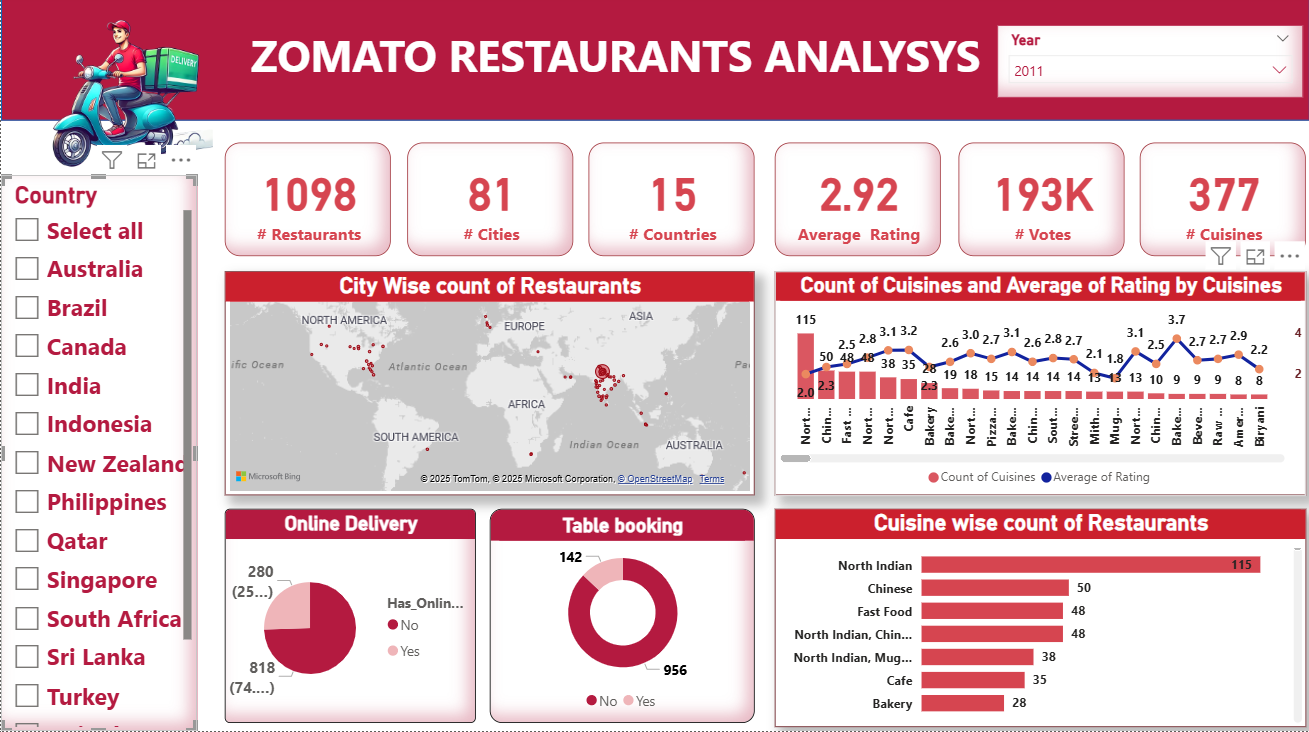

The dashboard page shown, as its layout file describes it:
{"tool":"powerbi","page":{"name":"Dashboard","canvas":[1280,720],"ordinal":0},"visuals":[{"type":"shape","box":[0,0,1280.4,122.9],"z":0},{"type":"image","box":[0,0,240.2,183.5],"z":1000},{"type":"textbox","box":[220,24.3,762.1,76],"z":2000},{"type":"card","fields":{"Values":["Count(restaurants.RestaurantID)"]},"box":[219.4,143.7,162.6,111.6],"z":3000},{"type":"card","fields":{"Values":["Count(restaurants.City)"]},"box":[397.2,143.7,162.6,111.6],"z":4000},{"type":"card","fields":{"Values":["Count(restaurants.CountryCode)"]},"box":[574.9,143.7,162.6,111.6],"z":5000},{"type":"card","fields":{"Values":["Avg(restaurants.Rating)"]},"box":[756.5,143.7,162.6,111.6],"z":6000},{"type":"card","fields":{"Values":["Sum(restaurants.Votes)"]},"box":[936.2,143.7,162.6,111.6],"z":7000},{"type":"card","fields":{"Values":["Count(restaurants.Cuisines)"]},"box":[1114,143.7,162.6,111.6],"z":8000},{"type":"slicer","fields":{"Values":["countries.country name"]},"box":[0,176,192,544],"z":9000},{"type":"lineStackedColumnComboChart","fields":{"Y":["CountNonNull(restaurants.Cuisines)"],"Category":["restaurants.Cuisines"],"Y2":["Avg(restaurants.Rating)"]},"box":[756.5,270.5,520.1,219.4],"z":10000},{"type":"map","title":"City Wise count of Restaurants","fields":{"Size":["CountNonNull(restaurants.RestaurantID)"],"Category":["restaurants.City"]},"box":[219.4,270.5,518.2,219.4],"z":11000},{"type":"clusteredBarChart","title":"Cuisine wise count of Restaurants","fields":{"Category":["restaurants.Cuisines"],"Y":["CountNonNull(restaurants.RestaurantID)"]},"box":[756.5,503.1,520.1,213.7],"z":12000},{"type":"pieChart","title":"Online Delivery","fields":{"Category":["restaurants.Has_Online_delivery"],"Y":["CountNonNull(restaurants.RestaurantID)"]},"box":[219.4,503.1,245.9,209.9],"z":13000},{"type":"donutChart","title":"Table booking ","fields":{"Category":["restaurants.Has_Table_booking"],"Y":["CountNonNull(restaurants.RestaurantID)"]},"box":[478.5,503.1,259.1,209.9],"z":14000},{"type":"slicer","fields":{"Values":["restaurants.Datekey_Opening.Variation.Date Hierarchy.Year"]},"box":[974,29.1,299.3,71.2],"z":15000}]}

Visuals, with their boxes in screenshot pixels (x1, y1, x2, y2), scaled from the page's 1280x720 canvas onto the 1309x732 screenshot:
shape: pyautogui.locateOnScreen(0, 0, 1308, 125)
image: pyautogui.locateOnScreen(0, 0, 246, 187)
textbox: pyautogui.locateOnScreen(225, 25, 1004, 102)
card - Count(restaurants.RestaurantID): pyautogui.locateOnScreen(224, 146, 391, 260)
card - Count(restaurants.City): pyautogui.locateOnScreen(406, 146, 572, 260)
card - Count(restaurants.CountryCode): pyautogui.locateOnScreen(588, 146, 754, 260)
card - Avg(restaurants.Rating): pyautogui.locateOnScreen(774, 146, 940, 260)
card - Sum(restaurants.Votes): pyautogui.locateOnScreen(957, 146, 1124, 260)
card - Count(restaurants.Cuisines): pyautogui.locateOnScreen(1139, 146, 1306, 260)
slicer - countries.country name: pyautogui.locateOnScreen(0, 179, 196, 731)
lineStackedColumnComboChart - CountNonNull(restaurants.Cuisines) x restaurants.Cuisines: pyautogui.locateOnScreen(774, 275, 1306, 498)
"City Wise count of Restaurants" map: pyautogui.locateOnScreen(224, 275, 754, 498)
"Cuisine wise count of Restaurants" clusteredBarChart: pyautogui.locateOnScreen(774, 511, 1306, 729)
"Online Delivery" pieChart: pyautogui.locateOnScreen(224, 511, 476, 725)
"Table booking " donutChart: pyautogui.locateOnScreen(489, 511, 754, 725)
slicer - restaurants.Datekey_Opening.Variation.Date Hierarchy.Year: pyautogui.locateOnScreen(996, 30, 1302, 102)
